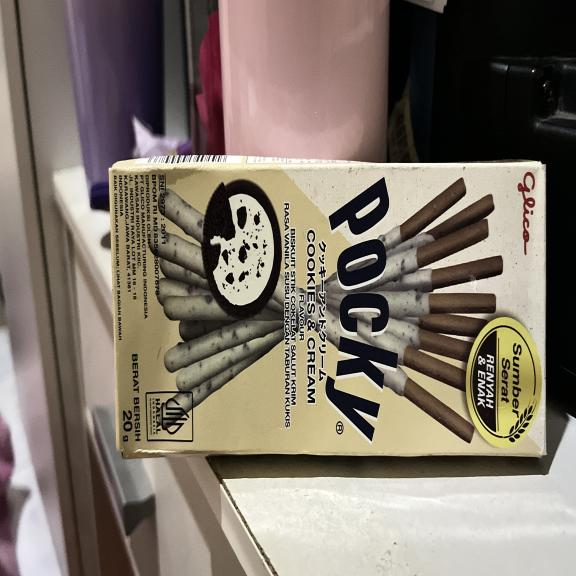Kertas: (109, 165, 546, 458)
